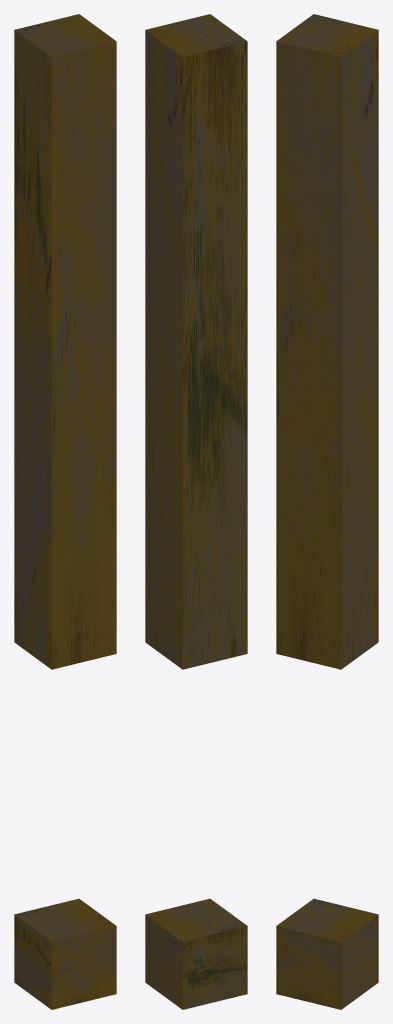
The model's file is obs10.glb.
3 views of the same model, side by side, from view 1: azimuth 30°, elevation 25°; view 2: azimuth 210°, elevation 25°; view 3: azimuth 330°, elevation 25° (orthographic).
Visible parts, largest first — view 1: obs_10; view 2: obs_10; view 3: obs_10.
Boxes of the visible parts, bbox=[...] form: obs_10: bbox=[14, 14, 116, 1009]; obs_10: bbox=[145, 14, 247, 1009]; obs_10: bbox=[276, 14, 378, 1009].
Bounding box in the file's own units: 1 × 14 × 1.
1 material, 1 textured.
